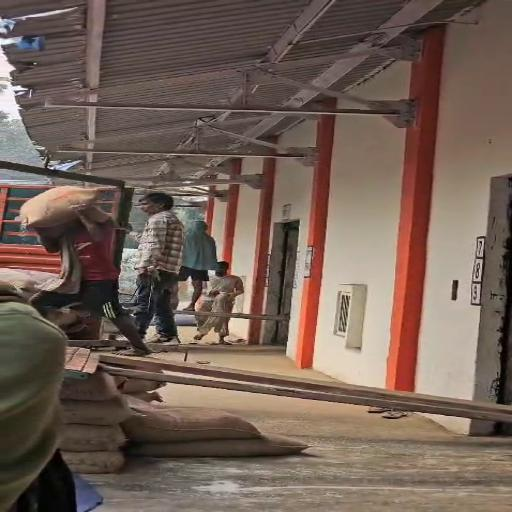bag: (16, 180, 124, 241)
